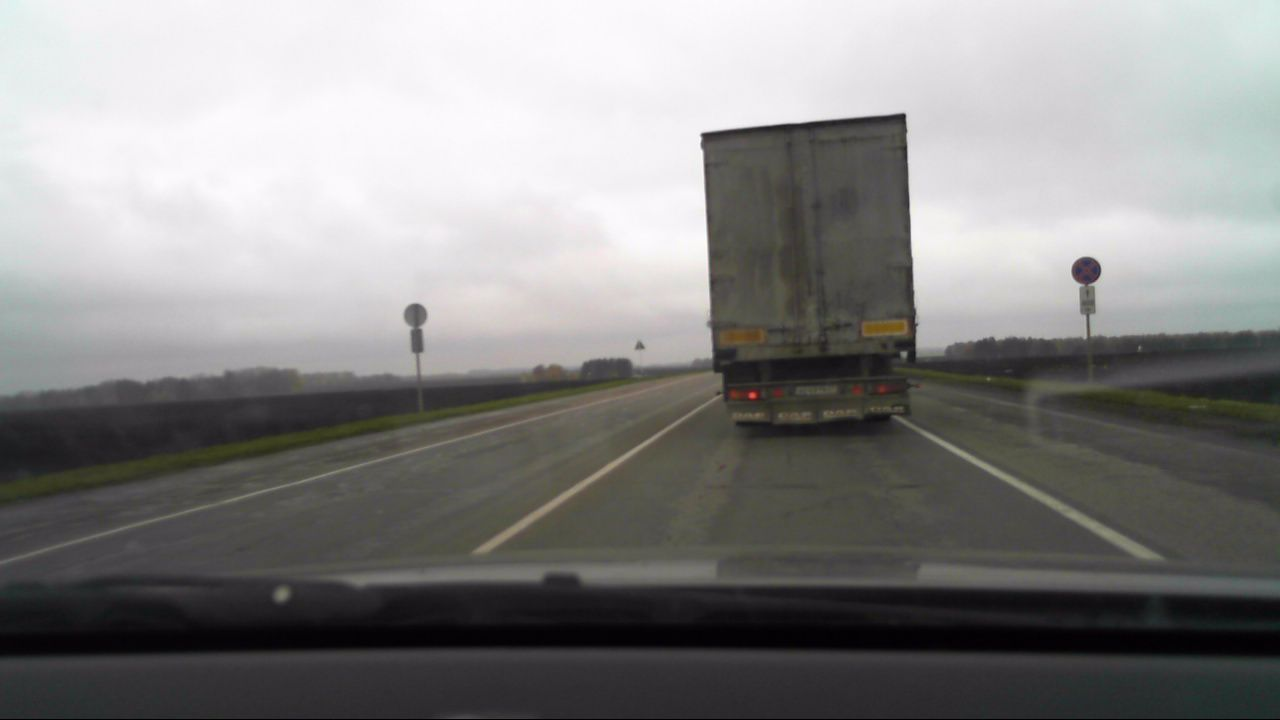No Parking: (1070, 254, 1103, 283)
